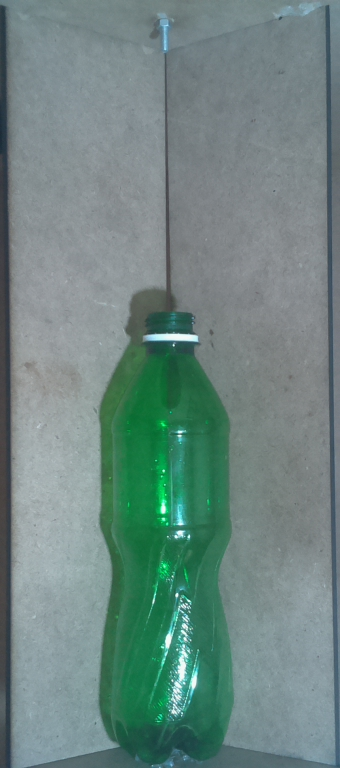Bouteille_0.5L: (96, 302, 239, 768)
